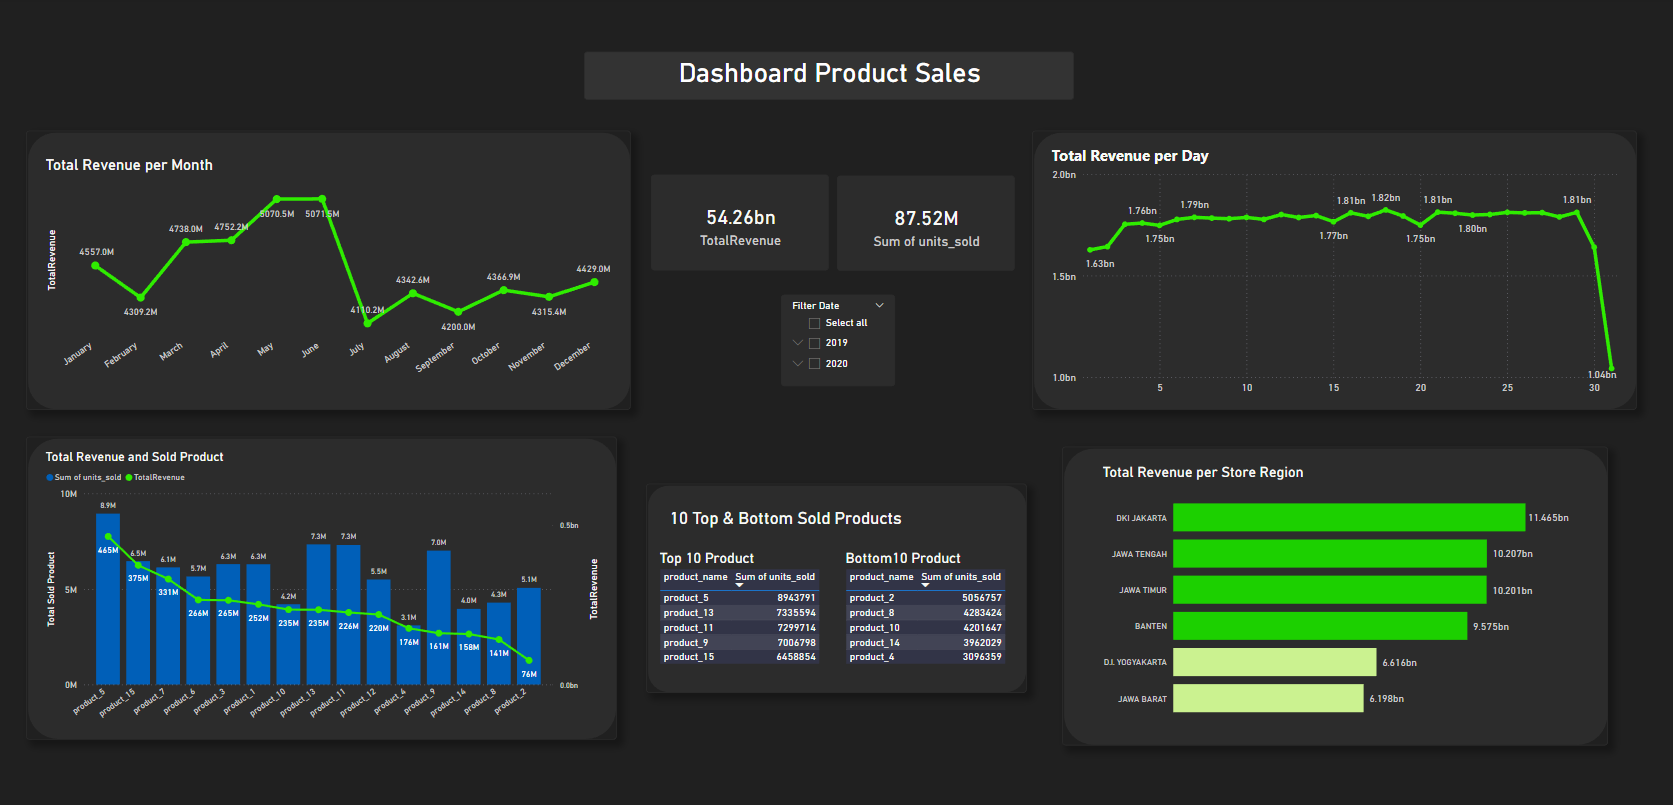

The dashboard page shown, as its layout file describes it:
{"tool":"powerbi","page":{"name":"Overall Revenue","canvas":[2400,1199],"ordinal":0},"visuals":[{"type":"shape","box":[1477.1,212.5,864.3,398.6],"z":0},{"type":"shape","box":[40,212.5,864.3,398.6],"z":1000},{"type":"shape","box":[925.7,717.1,544.3,298.6],"z":2000},{"type":"shape","box":[40,650,844.3,432.9],"z":3000},{"type":"shape","box":[1520,664.3,780,427.1],"z":4000},{"type":"textbox","box":[837.1,100,700,68.6],"z":5000},{"type":"lineStackedColumnComboChart","title":"Total Revenue and Sold Product","fields":{"Category":["porduct_tbl.product_name"],"Y2":["measure_tbl.TotalRevenue"],"Y":["Sum(daily_unit_sales.units_sold)"]},"box":[60,664.3,802.9,405.7],"z":6000},{"type":"tableEx","title":"Top 10 Product","fields":{"Values":["porduct_tbl.product_name","Sum(daily_unit_sales.units_sold)"]},"box":[937.1,808.6,250,187.1],"z":7000},{"type":"lineChart","title":"Total Revenue per Month","fields":{"Category":["daily_unit_sales.day_date.Variation.Date Hierarchy.Month"],"Y":["measure_tbl.TotalRevenue"]},"box":[60,245.4,824.3,332.9],"z":8000},{"type":"tableEx","title":"Bottom10 Product","fields":{"Values":["porduct_tbl.product_name","Sum(daily_unit_sales.units_sold)"]},"box":[1202.9,808.6,250,180],"z":9000},{"type":"textbox","box":[951.4,744.3,402.9,52.9],"z":10000},{"type":"lineChart","title":"Total Revenue per Day","fields":{"Y":["measure_tbl.TotalRevenue"],"Category":["daily_unit_sales.day_date.Variation.Date Hierarchy.Day"]},"box":[1497.1,229.7,824.3,365.7],"z":11000},{"type":"card","fields":{"Values":["measure_tbl.TotalRevenue"]},"box":[932.9,275.7,254.3,137.1],"z":12000},{"type":"card","fields":{"Values":["Sum(daily_unit_sales.units_sold)"]},"box":[1198.6,277.1,254.3,135.7],"z":13000},{"type":"slicer","fields":{"Values":["daily_unit_sales.day_date.Variation.Date Hierarchy.Year","daily_unit_sales.day_date.Variation.Date Hierarchy.Month","daily_unit_sales.day_date.Variation.Date Hierarchy.Day"]},"box":[1118.6,447.1,162.9,131.4],"z":14000},{"type":"clusteredBarChart","title":"Total Revenue per Store Region","fields":{"Category":["daily_unit_sales.store_region"],"Y":["measure_tbl.TotalRevenue"]},"box":[1570,685.7,680,385.7],"z":15000}]}

Visuals, with their boxes on the page's 2400x1199 design canvas (x1, y1, x2, y2). These are canvas units, not pixel positions in the 1673x805 screenshot, which may show the page scaled, cropped or inside an application window:
shape: (x1=1477, y1=212, x2=2341, y2=611)
shape: (x1=40, y1=212, x2=904, y2=611)
shape: (x1=926, y1=717, x2=1470, y2=1016)
shape: (x1=40, y1=650, x2=884, y2=1083)
shape: (x1=1520, y1=664, x2=2300, y2=1091)
textbox: (x1=837, y1=100, x2=1537, y2=169)
"Total Revenue and Sold Product" lineStackedColumnComboChart: (x1=60, y1=664, x2=863, y2=1070)
"Top 10 Product" tableEx: (x1=937, y1=809, x2=1187, y2=996)
"Total Revenue per Month" lineChart: (x1=60, y1=245, x2=884, y2=578)
"Bottom10 Product" tableEx: (x1=1203, y1=809, x2=1453, y2=989)
textbox: (x1=951, y1=744, x2=1354, y2=797)
"Total Revenue per Day" lineChart: (x1=1497, y1=230, x2=2321, y2=595)
card - measure_tbl.TotalRevenue: (x1=933, y1=276, x2=1187, y2=413)
card - Sum(daily_unit_sales.units_sold): (x1=1199, y1=277, x2=1453, y2=413)
slicer - daily_unit_sales.day_date.Variation.Date Hierarchy.Year x daily_unit_sales.day_date.Variation.Date Hierarchy.Month: (x1=1119, y1=447, x2=1282, y2=578)
"Total Revenue per Store Region" clusteredBarChart: (x1=1570, y1=686, x2=2250, y2=1071)
